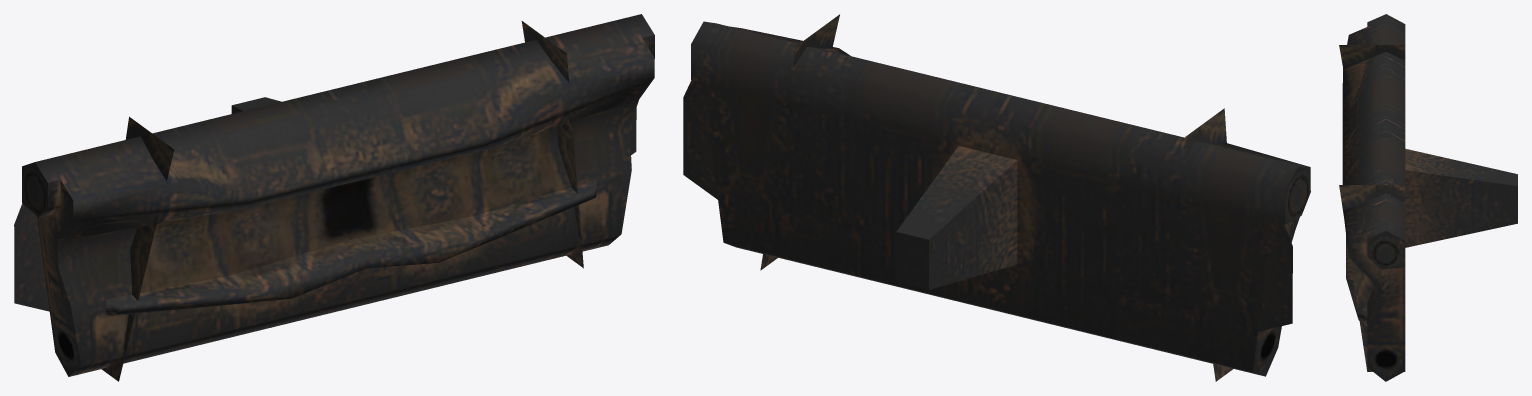
The picture shows the model from 3 angles, left to right: view 1: azimuth 30°, elevation 25°; view 2: azimuth 150°, elevation 25°; view 3: azimuth 270°, elevation 25°; orthographic projection. The views are drawn at different scales.
Visible parts, largest first — view 1: set_0_group_0; view 2: set_0_group_0; view 3: set_0_group_0.
Part boxes in pixels (bbox=[...]): set_0_group_0: bbox=[14, 14, 654, 381]; set_0_group_0: bbox=[683, 14, 1310, 381]; set_0_group_0: bbox=[1339, 14, 1517, 381].
Bounding box in the file's own units: 0.5599 × 0.2045 × 0.1903.
1 material, 1 textured.
